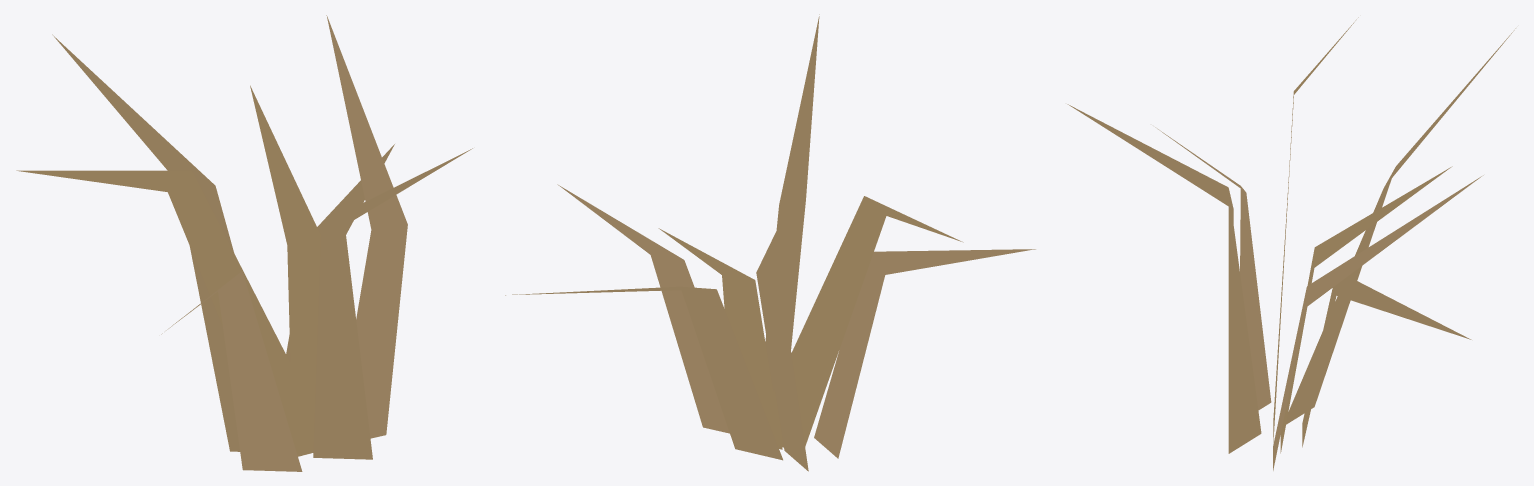
Rendered from Grass_g_OneS_03.fbx.
3 renders of one model, left to right at view 1: azimuth 30°, elevation 25°; view 2: azimuth 150°, elevation 25°; view 3: azimuth 270°, elevation 25°, orthographic. The views are drawn at different scales.
Parts seen in each view (by area): view 1: Grass_g_OneS_03; view 2: Grass_g_OneS_03; view 3: Grass_g_OneS_03.
Part boxes in pixels (x1,y1,x2,y2): Grass_g_OneS_03: (16, 15, 472, 471); Grass_g_OneS_03: (505, 14, 1035, 471); Grass_g_OneS_03: (1067, 17, 1515, 470).
Size of the model in its own units: 0.5484 by 0.4434 by 0.506.
